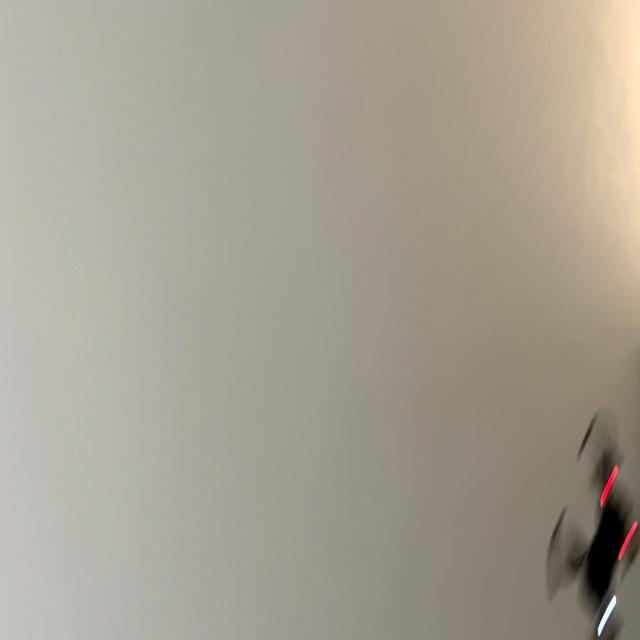drone: (537, 394, 640, 639)
